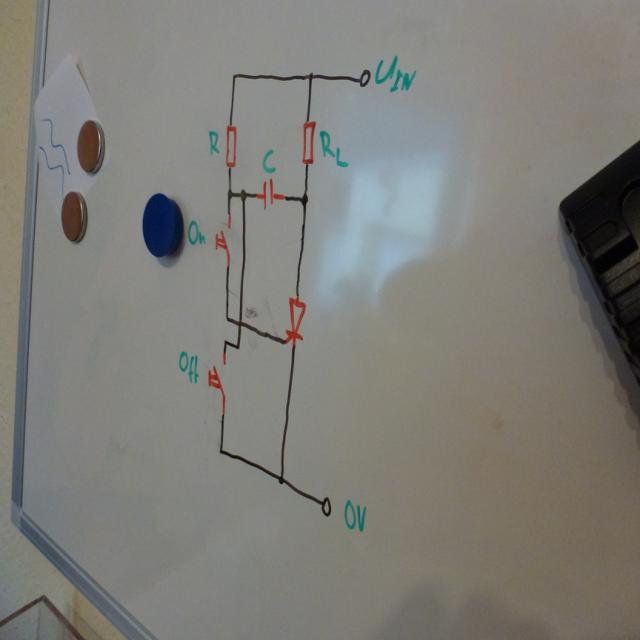capacitor: (258, 177, 279, 209)
crossover: (236, 317, 243, 329)
junction: (238, 188, 248, 202), (299, 192, 308, 206), (276, 472, 284, 486), (306, 70, 315, 82), (226, 188, 233, 200), (230, 71, 238, 81), (222, 337, 229, 348), (234, 340, 241, 350), (217, 446, 224, 456), (224, 312, 229, 322)
resistor: (300, 119, 316, 165), (224, 121, 237, 168)
switch: (208, 352, 225, 412), (214, 214, 233, 265)
terminal: (358, 67, 371, 88), (319, 495, 331, 516)
text: (374, 53, 416, 93), (319, 129, 348, 167), (343, 498, 366, 531), (178, 350, 198, 383), (187, 218, 205, 245), (261, 148, 276, 173), (208, 128, 220, 155)
thyristor: (285, 295, 305, 345)
